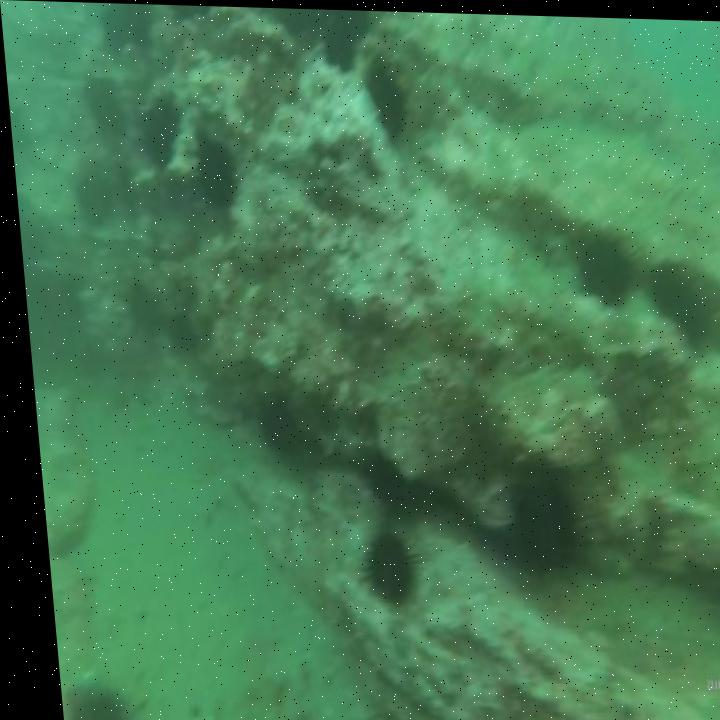echinus: (492, 447, 577, 580), (565, 214, 636, 306), (186, 118, 243, 219), (364, 47, 417, 144), (354, 518, 407, 613), (243, 387, 306, 463), (128, 95, 182, 178), (79, 73, 135, 142), (63, 154, 115, 225)
